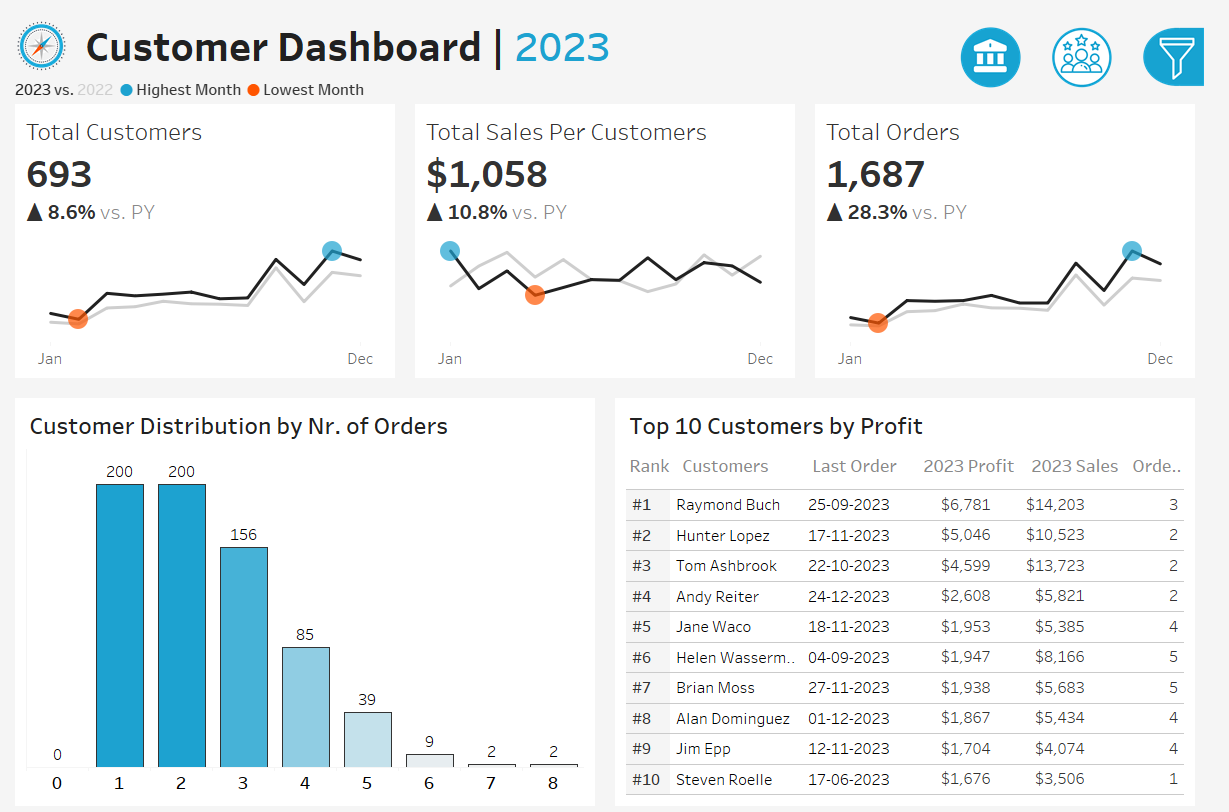

What the dashboard file says about the page in this screenshot:
{"tool":"tableau","page":{"name":"Customer Dashboard","canvas":[1200,800],"ordinal":0},"visuals":[{"type":"image","param":"Image/Icon - Logo.png","box":[0,0,73,59]},{"type":"text","box":[73,0,820,59]},{"type":"dashboard-object","box":[940,6,91,70]},{"type":"dashboard-object","box":[1031,6,91,70]},{"type":"blank","box":[952,10,237,86]},{"type":"worksheet","title":"Legend KPI","mark":"Automatic","box":[0,59,1200,29]},{"type":"worksheet","title":"KPI Customers","mark":"Automatic","rows":["Min/Max Quantity (copy)_3221481164588691468"],"cols":["Order Date"],"box":[0,88,400,284]},{"type":"worksheet","title":"KPI Sales Per Customers","mark":"Automatic","rows":["Min/Max Quantity (copy)_3221481164537155591"],"cols":["Order Date"],"box":[400,88,400,284]},{"type":"worksheet","title":"KPI Orders","mark":"Automatic","rows":["Min/Max Sales (copy)_3221481164601258003"],"cols":["Order Date"],"box":[800,88,400,284]},{"type":"text","box":[952,96,237,37]},{"type":"parameter","param":"[Parameters].[Parameter 1]","box":[952,133,237,55]},{"type":"text","box":[952,188,237,32]},{"type":"filter","title":"KPI Customers","param":"[federated.1kpxa041aiai2y1cl4pui1t4eju9].[none:Category:nk]","box":[952,220,237,57]},{"type":"filter","title":"KPI Customers","param":"[federated.1kpxa041aiai2y1cl4pui1t4eju9].[none:Sub-Category:nk]","box":[952,277,237,57]},{"type":"blank","box":[952,334,237,60]},{"type":"text","box":[17,389,566,40]},{"type":"text","box":[617,389,566,40]},{"type":"text","box":[952,394,237,32]},{"type":"filter","title":"KPI Customers","param":"[federated.1kpxa041aiai2y1cl4pui1t4eju9].[none:Region:nk]","box":[952,426,237,57]},{"type":"worksheet","title":"Customer Distribution","mark":"Bar","rows":["CY Sales (copy)_3221481164532666369"],"cols":["Calculation_998110323739992064"],"box":[17,429,566,354]},{"type":"text","box":[617,429,53,40]},{"type":"text","box":[670,429,130,40]},{"type":"text","box":[800,429,111,40]},{"type":"text","box":[911,429,108,40]},{"type":"text","box":[1019,429,101,40]},{"type":"text","box":[1120,429,63,40]},{"type":"worksheet","title":"Top Customers","mark":"Automatic","rows":["Calculation_782500491678904334","Customer Name","Order Date"],"box":[617,469,566,314]},{"type":"filter","title":"KPI Customers","param":"[federated.1kpxa041aiai2y1cl4pui1t4eju9].[none:State:nk]","box":[952,483,237,57]},{"type":"filter","title":"KPI Customers","param":"[federated.1kpxa041aiai2y1cl4pui1t4eju9].[none:City:nk]","box":[952,540,237,57]}]}

Visuals, with their boxes in screenshot pixels (x1, y1, x2, y2), scaled from the page's 1200x800 canvas onto the 1229x812 screenshot:
image: 0,0,75,60
text: 75,0,915,60
dashboard-object: 963,6,1056,77
dashboard-object: 1056,6,1149,77
blank: 975,10,1218,97
"Legend KPI" worksheet: 0,60,1228,89
"KPI Customers" worksheet: 0,89,410,378
"KPI Sales Per Customers" worksheet: 410,89,819,378
"KPI Orders" worksheet: 819,89,1228,378
text: 975,97,1218,135
parameter: 975,135,1218,191
text: 975,191,1218,223
"KPI Customers" filter: 975,223,1218,281
"KPI Customers" filter: 975,281,1218,339
blank: 975,339,1218,400
text: 17,395,597,435
text: 632,395,1212,435
text: 975,400,1218,432
"KPI Customers" filter: 975,432,1218,490
"Customer Distribution" worksheet (Bar marks): 17,435,597,795
text: 632,435,686,476
text: 686,435,819,476
text: 819,435,933,476
text: 933,435,1044,476
text: 1044,435,1147,476
text: 1147,435,1212,476
"Top Customers" worksheet: 632,476,1212,795
"KPI Customers" filter: 975,490,1218,548
"KPI Customers" filter: 975,548,1218,606
